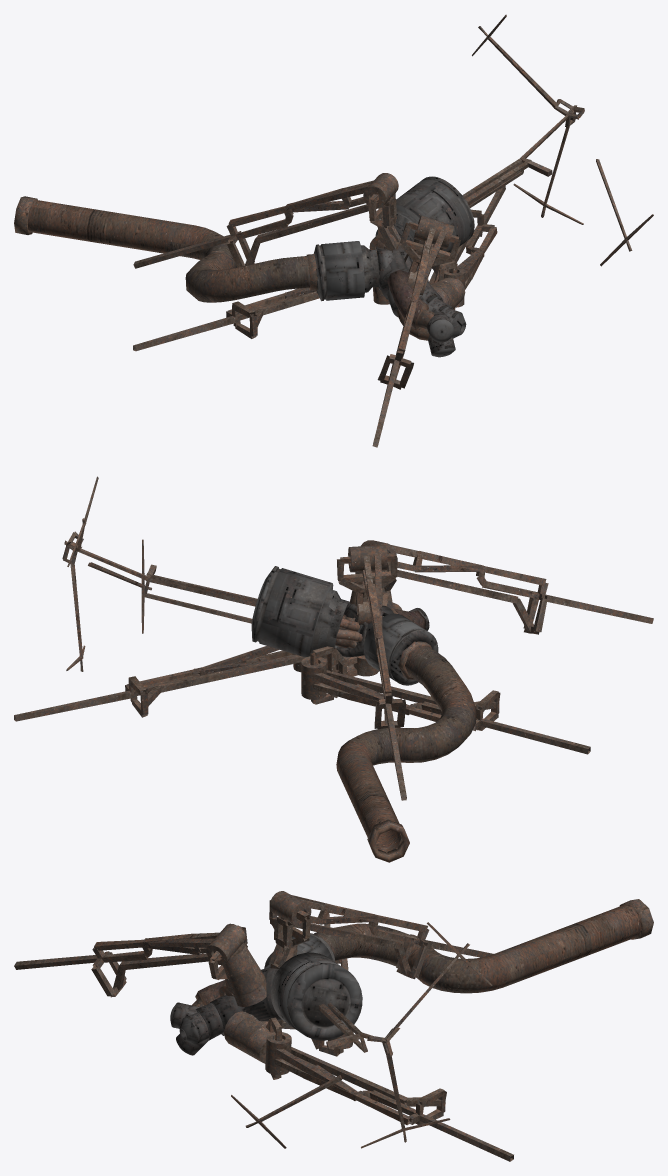
Rendered from Matriarch.fbx.
3 views of the same model, one above another, from view 1: azimuth 30°, elevation 25°; view 2: azimuth 150°, elevation 25°; view 3: azimuth 270°, elevation 25° (orthographic). The views are drawn at different scales.
Parts seen in each view (by area): view 1: Cylinder.207, Vert.121, Cylinder.214, Cylinder.212, Cylinder.208, Cylinder.210, Cylinder.215, Cylinder.213, Cylinder.211; view 2: Cylinder.207, Vert.121, Cylinder.212, Cylinder.208, Cylinder.210, Cylinder.214, Cylinder.215, Cylinder.209, Cylinder.223, Cylinder.206; view 3: Cylinder.207, Vert.121, Cylinder.210, Cylinder.212, Cylinder.214, Cylinder.213, Cylinder.211, Cylinder.215, Cylinder.206, Cylinder.223.
Part boxes in pixels (x1,y1,x2,y2): Cylinder.207: [306, 14, 584, 357]; Vert.121: [28, 199, 310, 302]; Cylinder.214: [133, 173, 398, 268]; Cylinder.212: [372, 215, 454, 447]; Cylinder.208: [133, 287, 319, 351]; Cylinder.210: [444, 185, 505, 307]; Cylinder.215: [368, 193, 400, 257]; Cylinder.213: [400, 222, 460, 295]; Cylinder.211: [429, 261, 465, 309]; Cylinder.207: [62, 476, 438, 685]; Vert.121: [336, 645, 476, 854]; Cylinder.212: [361, 540, 653, 634]; Cylinder.208: [301, 656, 590, 754]; Cylinder.210: [14, 646, 305, 721]; Cylinder.214: [348, 545, 406, 800]; Cylinder.215: [337, 553, 397, 624]; Cylinder.209: [310, 646, 378, 704]; Cylinder.223: [367, 819, 409, 862]; Cylinder.206: [88, 539, 151, 633]; Cylinder.207: [170, 922, 492, 1148]; Vert.121: [314, 905, 641, 993]; Cylinder.210: [265, 1032, 513, 1161]; Cylinder.212: [14, 923, 246, 997]; Cylinder.214: [269, 891, 493, 979]; Cylinder.213: [208, 925, 266, 1006]; Cylinder.211: [224, 1011, 281, 1079]; Cylinder.215: [269, 900, 310, 968]; Cylinder.206: [231, 1075, 342, 1148]; Cylinder.223: [619, 899, 653, 939].
Size of the model in its own units: 264 by 115 by 299.
